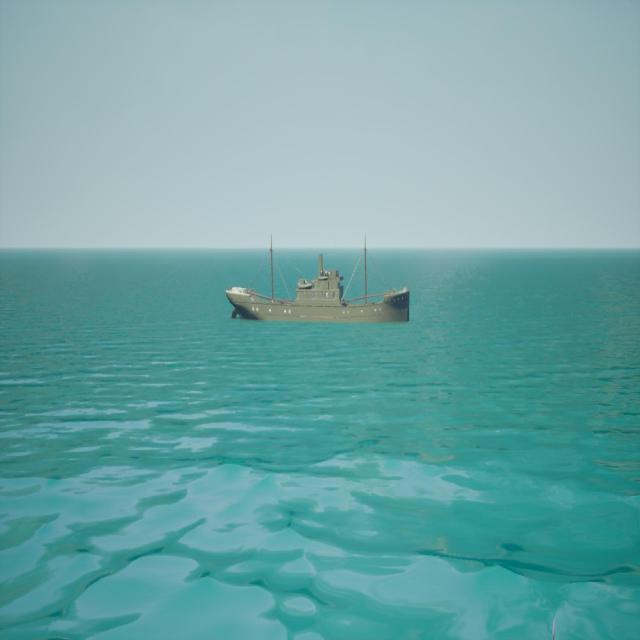fishing ship: (227, 239, 413, 324)
